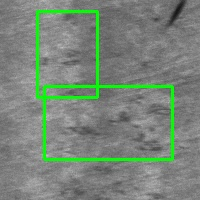rolled-in_scale: (44, 86, 172, 159), (37, 11, 97, 97)
